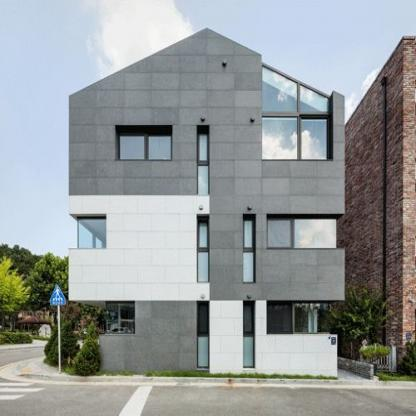Building Outline: (67, 26, 345, 379)
Facade: (68, 26, 346, 379)
Floor Slab: (69, 195, 345, 204), (69, 283, 345, 292)
Window: (262, 65, 330, 160), (267, 302, 337, 333), (267, 217, 337, 248), (120, 136, 171, 159), (107, 303, 135, 333), (78, 218, 106, 248), (244, 302, 254, 367), (198, 302, 208, 367), (198, 130, 208, 194), (198, 218, 208, 282), (244, 218, 254, 282)
